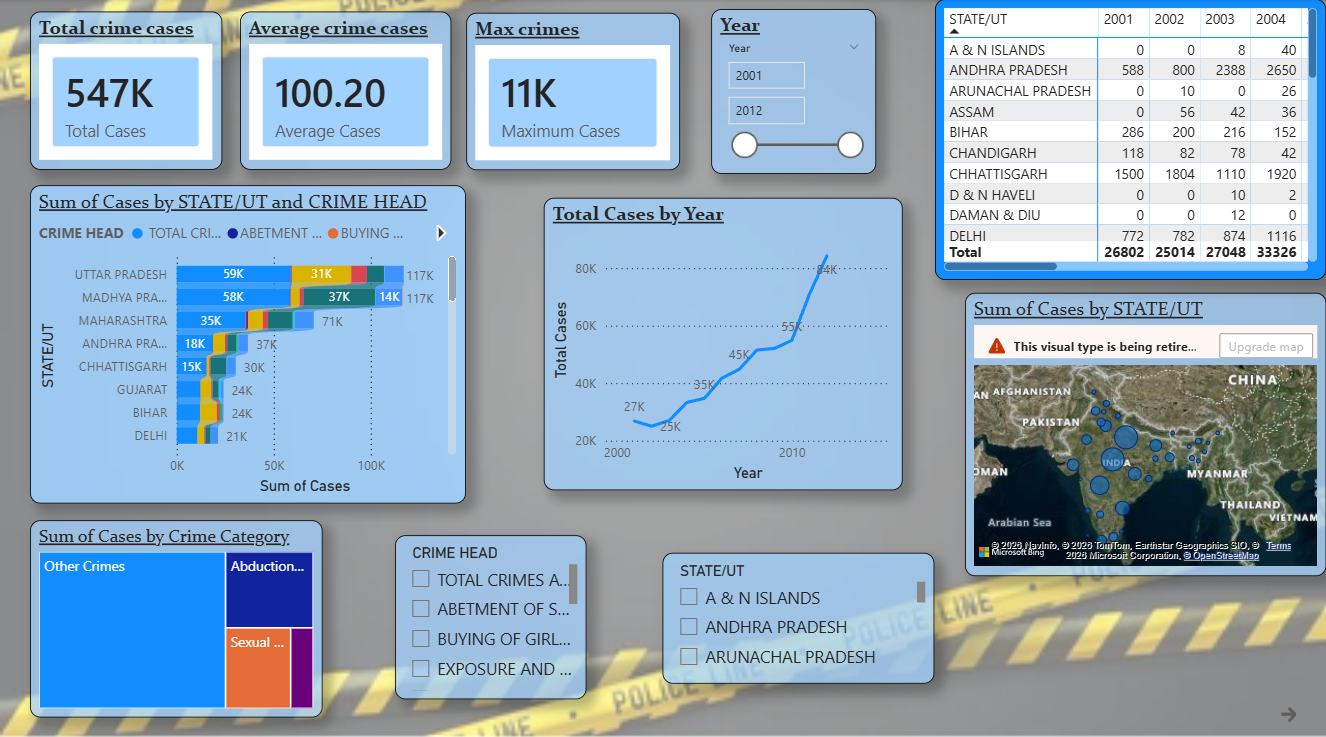

The dashboard page shown, as its layout file describes it:
{"tool":"powerbi","page":{"name":"Home page","canvas":[1280,720],"ordinal":0},"visuals":[{"type":"cardVisual","title":"Total crime cases","fields":{"Data":["in.Total Cases"]},"box":[29.3,12.2,185.9,152.9],"z":0},{"type":"cardVisual","title":"Max crimes","fields":{"Data":["in.Maximum Cases"]},"box":[450,13.5,206.7,151.6],"z":1000},{"type":"cardVisual","title":"Average crime cases","fields":{"Data":["in.Average Cases"]},"box":[231.1,12.2,204.2,152.9],"z":2000},{"type":"lineChart","fields":{"Category":["in.Year"],"Y":["in.Total Cases"]},"box":[524.6,192,346.1,282.5],"z":3000},{"type":"barChart","fields":{"Y":["Sum(in.Cases)"],"Category":["in.STATE/UT"],"Series":["in.CRIME HEAD"]},"box":[29.3,179.8,420.7,306.9],"z":4000},{"type":"map","fields":{"Category":["in.STATE/UT"],"Size":["Sum(in.Cases)"]},"box":[931.4,283.5,348.7,273.9],"z":5000},{"type":"pivotTable","fields":{"Rows":["in.STATE/UT"],"Columns":["in.Year"],"Values":["Sum(in.Cases)"]},"box":[902.5,0,377.9,271.5],"z":6000},{"type":"treemap","fields":{"Group":["in.Crime Category"],"Values":["Sum(in.Cases)"]},"box":[29.3,502.6,282.5,190.8],"z":7000},{"type":"slicer","title":"Year","fields":{"Values":["in.Year"]},"box":[686.5,9.7,159.3,159.3],"z":8000},{"type":"slicer","fields":{"Values":["in.CRIME HEAD"]},"box":[381.2,517.5,185,158.8],"z":9000},{"type":"slicer","fields":{"Values":["in.STATE/UT"]},"box":[640,535,262.5,126.2],"z":10000},{"type":"actionButton","box":[1231.4,670.1,44,40.4],"z":10001}]}

Visuals, with their boxes in screenshot pixels (x1, y1, x2, y2), scaled from the page's 1280x720 canvas onto the 1326x737 screenshot:
"Total crime cases" cardVisual: x1=30, y1=12, x2=223, y2=169
"Max crimes" cardVisual: x1=466, y1=14, x2=680, y2=169
"Average crime cases" cardVisual: x1=239, y1=12, x2=451, y2=169
lineChart - in.Year x in.Total Cases: x1=543, y1=197, x2=902, y2=486
barChart - Sum(in.Cases) x in.STATE/UT: x1=30, y1=184, x2=466, y2=498
map - in.STATE/UT x Sum(in.Cases): x1=965, y1=290, x2=1325, y2=571
pivotTable - in.STATE/UT x in.Year: x1=935, y1=0, x2=1325, y2=278
treemap - in.Crime Category x Sum(in.Cases): x1=30, y1=514, x2=323, y2=710
"Year" slicer: x1=711, y1=10, x2=876, y2=173
slicer - in.CRIME HEAD: x1=395, y1=530, x2=587, y2=692
slicer - in.STATE/UT: x1=663, y1=548, x2=935, y2=677
actionButton: x1=1276, y1=686, x2=1321, y2=727
